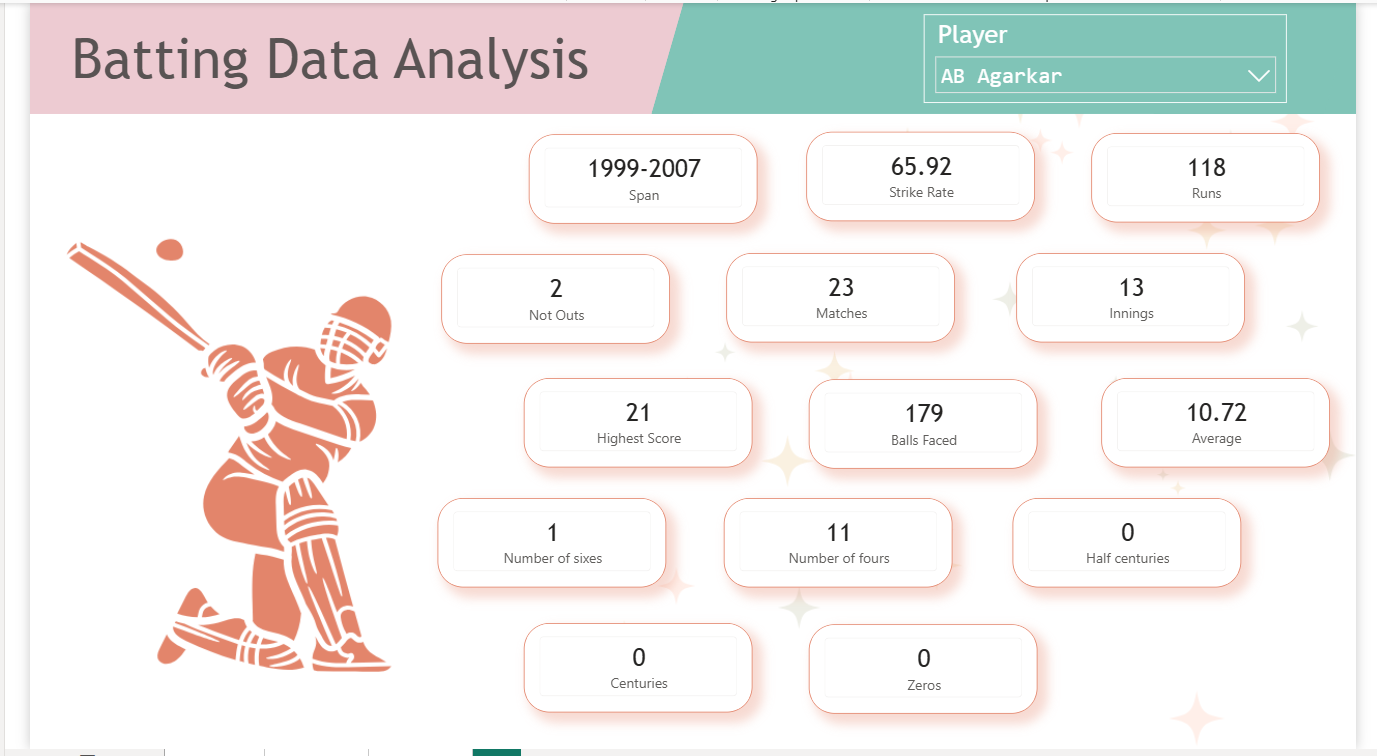

This screenshot's page, from the dashboard's own definition file:
{"tool":"powerbi","page":{"name":"Batting","canvas":[1280,720],"ordinal":0},"visuals":[{"type":"shape","box":[0,0,640,107.1],"z":0},{"type":"shape","box":[1084.5,0,195.5,107.1],"z":1000},{"type":"shape","box":[599.8,0,680.2,107.1],"z":2000},{"type":"slicer","fields":{"Values":["Batting Table.Player"]},"box":[862.3,10.7,350.8,85.7],"z":3000},{"type":"cardVisual","fields":{"Data":["Min(Batting Table.Span)"]},"box":[481.7,127.1,221,86],"z":4000},{"type":"cardVisual","fields":{"Data":["Sum(Batting Table.SR)"]},"box":[749.1,124.7,221,86],"z":5000},{"type":"cardVisual","fields":{"Data":["Sum(Batting Table.Runs)"]},"box":[1024.2,125.9,221,86],"z":6000},{"type":"cardVisual","fields":{"Data":["Sum(Batting Table.NO)"]},"box":[396.6,242,221,86],"z":7000},{"type":"cardVisual","fields":{"Data":["Sum(Batting Table.Mat)"]},"box":[671.8,241.5,221,86],"z":8000},{"type":"cardVisual","fields":{"Data":["Sum(Batting Table.Inns)"]},"box":[951.7,241.5,221,86],"z":9000},{"type":"cardVisual","fields":{"Data":["Min(Batting Table.HS)"]},"box":[476.6,362,221,86],"z":10000},{"type":"cardVisual","fields":{"Data":["Sum(Batting Table.BF)"]},"box":[751.7,362.6,221,86],"z":11000},{"type":"cardVisual","fields":{"Data":["Sum(Batting Table.Ave)"]},"box":[1034,361.4,221,86],"z":12000},{"type":"cardVisual","fields":{"Data":["Sum(Batting Table.6s)"]},"box":[393.2,477.1,221,86],"z":13000},{"type":"cardVisual","fields":{"Data":["Sum(Batting Table.4s)"]},"box":[669.8,477.1,221,86],"z":14000},{"type":"cardVisual","fields":{"Data":["Sum(Batting Table.50)"]},"box":[948.2,477.1,221,86],"z":15000},{"type":"cardVisual","fields":{"Data":["Sum(Batting Table.100)"]},"box":[476.7,598.6,221,86],"z":16000},{"type":"cardVisual","fields":{"Data":["Sum(Batting Table.0)"]},"box":[751.8,599.3,221,86],"z":17000}]}

Visuals, with their boxes in screenshot pixels (x1, y1, x2, y2), scaled from the page's 1280x720 canvas onto the 1377x756 screenshot:
shape: (0, 0, 688, 112)
shape: (1167, 0, 1376, 112)
shape: (645, 0, 1376, 112)
slicer - Batting Table.Player: (928, 11, 1305, 101)
cardVisual - Min(Batting Table.Span): (518, 133, 756, 224)
cardVisual - Sum(Batting Table.SR): (806, 131, 1044, 221)
cardVisual - Sum(Batting Table.Runs): (1102, 132, 1340, 222)
cardVisual - Sum(Batting Table.NO): (427, 254, 664, 344)
cardVisual - Sum(Batting Table.Mat): (723, 254, 960, 344)
cardVisual - Sum(Batting Table.Inns): (1024, 254, 1262, 344)
cardVisual - Min(Batting Table.HS): (513, 380, 750, 470)
cardVisual - Sum(Batting Table.BF): (809, 381, 1046, 471)
cardVisual - Sum(Batting Table.Ave): (1112, 379, 1350, 470)
cardVisual - Sum(Batting Table.6s): (423, 501, 661, 591)
cardVisual - Sum(Batting Table.4s): (721, 501, 958, 591)
cardVisual - Sum(Batting Table.50): (1020, 501, 1258, 591)
cardVisual - Sum(Batting Table.100): (513, 629, 751, 719)
cardVisual - Sum(Batting Table.0): (809, 629, 1047, 720)
